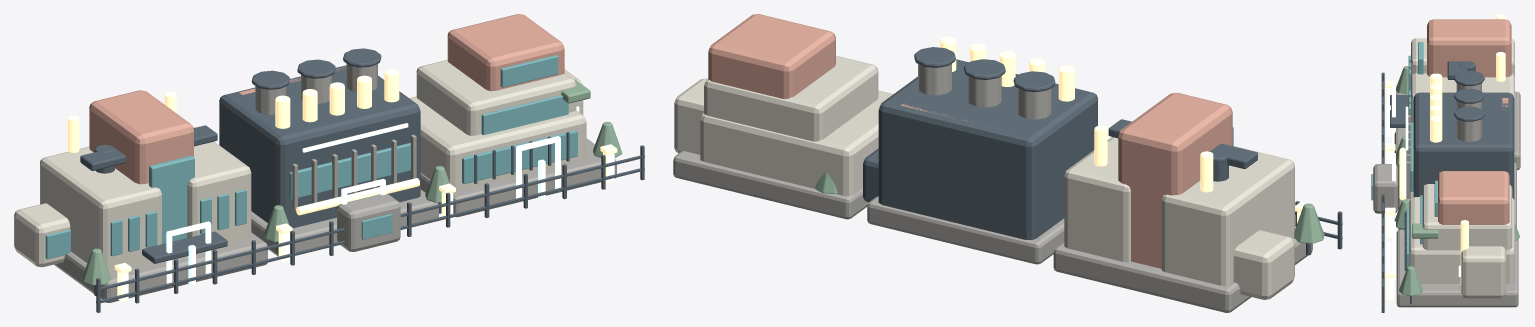
The model's file is campus_modular_kit.glb.
The picture shows the model from 3 angles, left to right: view 1: azimuth 30°, elevation 25°; view 2: azimuth 150°, elevation 25°; view 3: azimuth 270°, elevation 25°; orthographic projection. The views are drawn at different scales.
Parts seen in each view (by area): view 1: Base__Compute__MainMass, Base__LabCore__WestWing, Base__LabCore__CoreTower, Base__Research__LowerTerrace, Base__Research__UpperStudio, Base__Research__MiddleTerrace, Base__LabCore__EastWing, Base__LabCore__Foundation, Base__Research__Foundation, Base__Compute__FrontRibbon, Scrutiny__Campus__Checkpoint, Base__LabCore__AtriumGlass (+32 smaller); view 2: Base__Compute__MainMass, Base__LabCore__WestWing, Base__LabCore__CoreTower, Base__Research__LowerTerrace, Base__Research__UpperStudio, Base__Research__MiddleTerrace, Base__LabCore__EastWing, Base__LabCore__Foundation, Base__Compute__Foundation, Base__Research__Foundation, Growth__LabCore__ExpansionPod, Growth__Research__OpenStudio (+14 smaller); view 3: Base__Compute__MainMass, Base__LabCore__CoreTower, Base__Research__UpperStudio, Base__Research__Foundation, Base__Research__MiddleTerrace, Base__Research__LowerTerrace, Growth__Research__OpenStudio, Base__LabCore__EastWing, Scrutiny__Campus__Checkpoint, Base__LabCore__Foundation, Base__LabCore__WestWing, Base__Compute__CoolingTower_02 (+35 smaller).
Part boxes in pixels (left/top/right/bottom): Base__Compute__MainMass: left=219, top=65, right=420, bottom=228; Base__LabCore__WestWing: left=40, top=146, right=161, bottom=272; Base__LabCore__CoreTower: left=89, top=90, right=193, bottom=184; Base__Research__LowerTerrace: left=409, top=96, right=586, bottom=191; Base__Research__UpperStudio: left=447, top=14, right=564, bottom=91; Base__Research__MiddleTerrace: left=416, top=60, right=576, bottom=135; Base__LabCore__EastWing: left=187, top=125, right=251, bottom=243; Base__LabCore__Foundation: left=54, top=232, right=267, bottom=302; Base__Research__Foundation: left=420, top=138, right=616, bottom=217; Base__Compute__FrontRibbon: left=289, top=143, right=410, bottom=199; Scrutiny__Campus__Checkpoint: left=337, top=194, right=400, bottom=251; Base__LabCore__AtriumGlass: left=149, top=155, right=194, bottom=244; Base__Compute__MainMass: left=878, top=59, right=1097, bottom=240; Base__LabCore__WestWing: left=1161, top=146, right=1294, bottom=285; Base__LabCore__CoreTower: left=1118, top=92, right=1232, bottom=268; Base__Research__LowerTerrace: left=700, top=90, right=893, bottom=196; Base__Research__UpperStudio: left=708, top=14, right=835, bottom=98; Base__Research__MiddleTerrace: left=704, top=55, right=878, bottom=141; Base__LabCore__EastWing: left=1064, top=137, right=1130, bottom=262; Base__LabCore__Foundation: left=1053, top=226, right=1312, bottom=312; Base__Compute__Foundation: left=867, top=196, right=1064, bottom=264; Base__Research__Foundation: left=673, top=151, right=868, bottom=219; Growth__LabCore__ExpansionPod: left=1233, top=230, right=1294, bottom=299; Growth__Research__OpenStudio: left=674, top=78, right=706, bottom=154; Base__Compute__MainMass: left=1413, top=92, right=1514, bottom=199; Base__LabCore__CoreTower: left=1427, top=19, right=1511, bottom=77; Base__Research__UpperStudio: left=1438, top=171, right=1509, bottom=224; Base__Research__Foundation: left=1396, top=229, right=1518, bottom=307; Base__Research__MiddleTerrace: left=1422, top=184, right=1512, bottom=250; Base__Research__LowerTerrace: left=1409, top=197, right=1514, bottom=283; Growth__Research__OpenStudio: left=1461, top=246, right=1506, bottom=298; Base__LabCore__EastWing: left=1411, top=73, right=1514, bottom=149; Scrutiny__Campus__Checkpoint: left=1373, top=164, right=1398, bottom=213; Base__LabCore__Foundation: left=1394, top=91, right=1520, bottom=170; Base__LabCore__WestWing: left=1411, top=38, right=1514, bottom=77; Base__Compute__CoolingTower_02: left=1456, top=119, right=1481, bottom=141.
Size of the model in its own units: 28.65 by 6.98 by 8.3.
